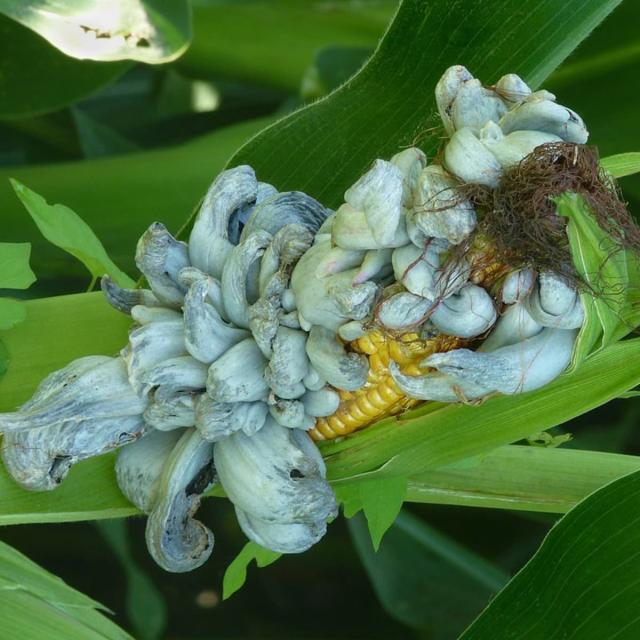Leaf_Scald: (36, 48, 615, 593)
